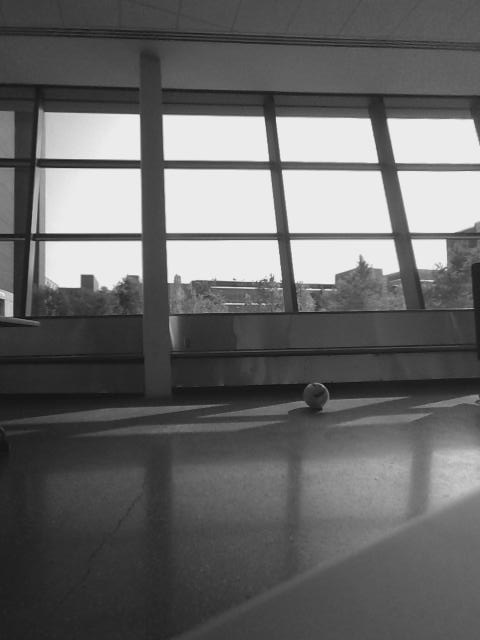ball: (300, 380, 331, 412)
